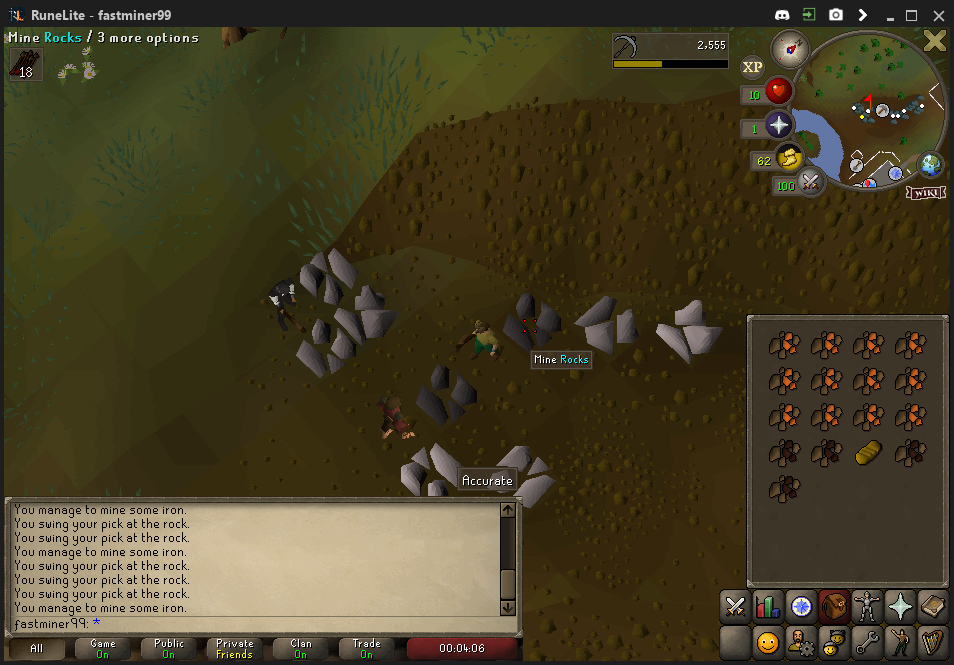depleted: (498, 294, 572, 349), (413, 362, 477, 424)
